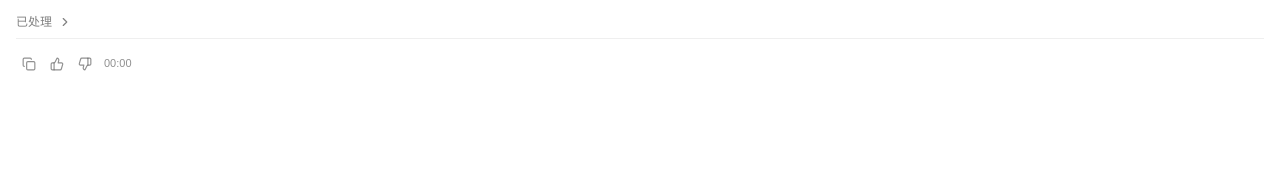
it: ConversationView › requests and renders a file diff only after the landed tool detail is expanded
Click the button with aria-label "展开回复 已处理" at coordinates (44, 22), box [16,12,72,32]
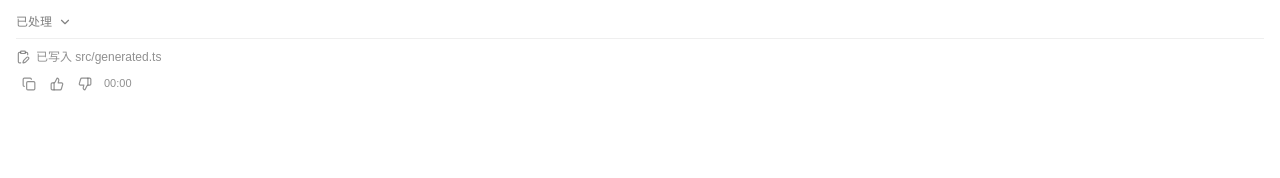
Click the button with aria-label "展开文件变更 src/generated.ts" at coordinates (99, 57), box [16,47,1264,67]
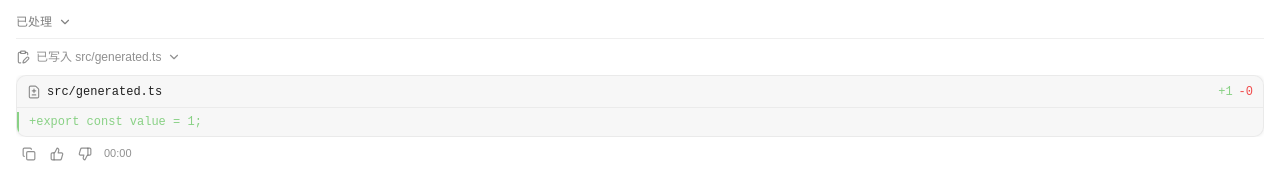
Expected: the text "+export const value = 1;" is shown, [17,112,212,132]
